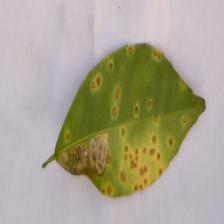canker: (44, 90, 180, 187)
